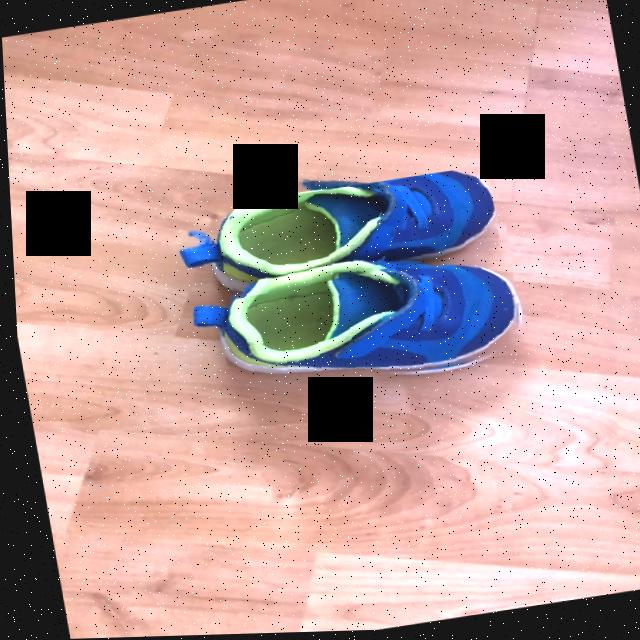shoe: (192, 247, 516, 376), (218, 175, 493, 282)
